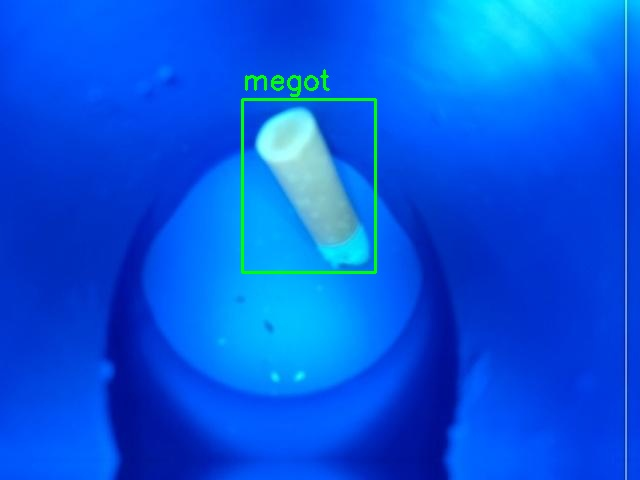megot: (242, 99, 375, 272)
